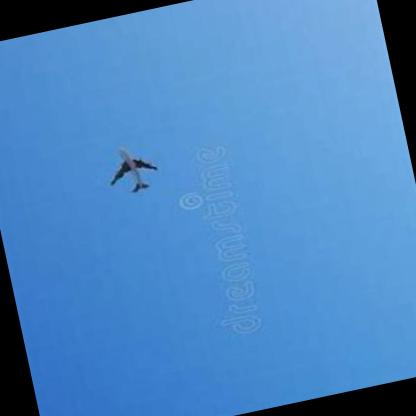plane: (93, 132, 170, 202)
